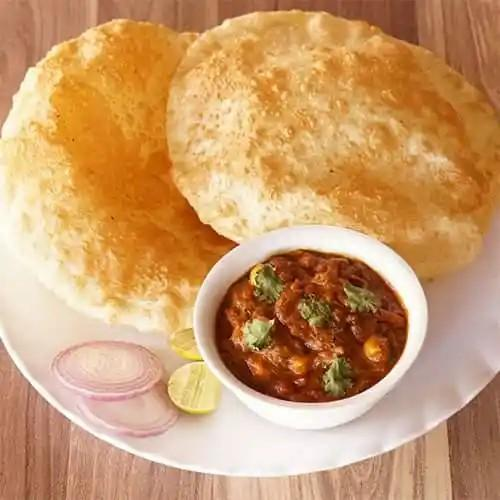Bhatura: (165, 8, 497, 274), (1, 19, 247, 333)
Chole: (216, 248, 409, 402)
